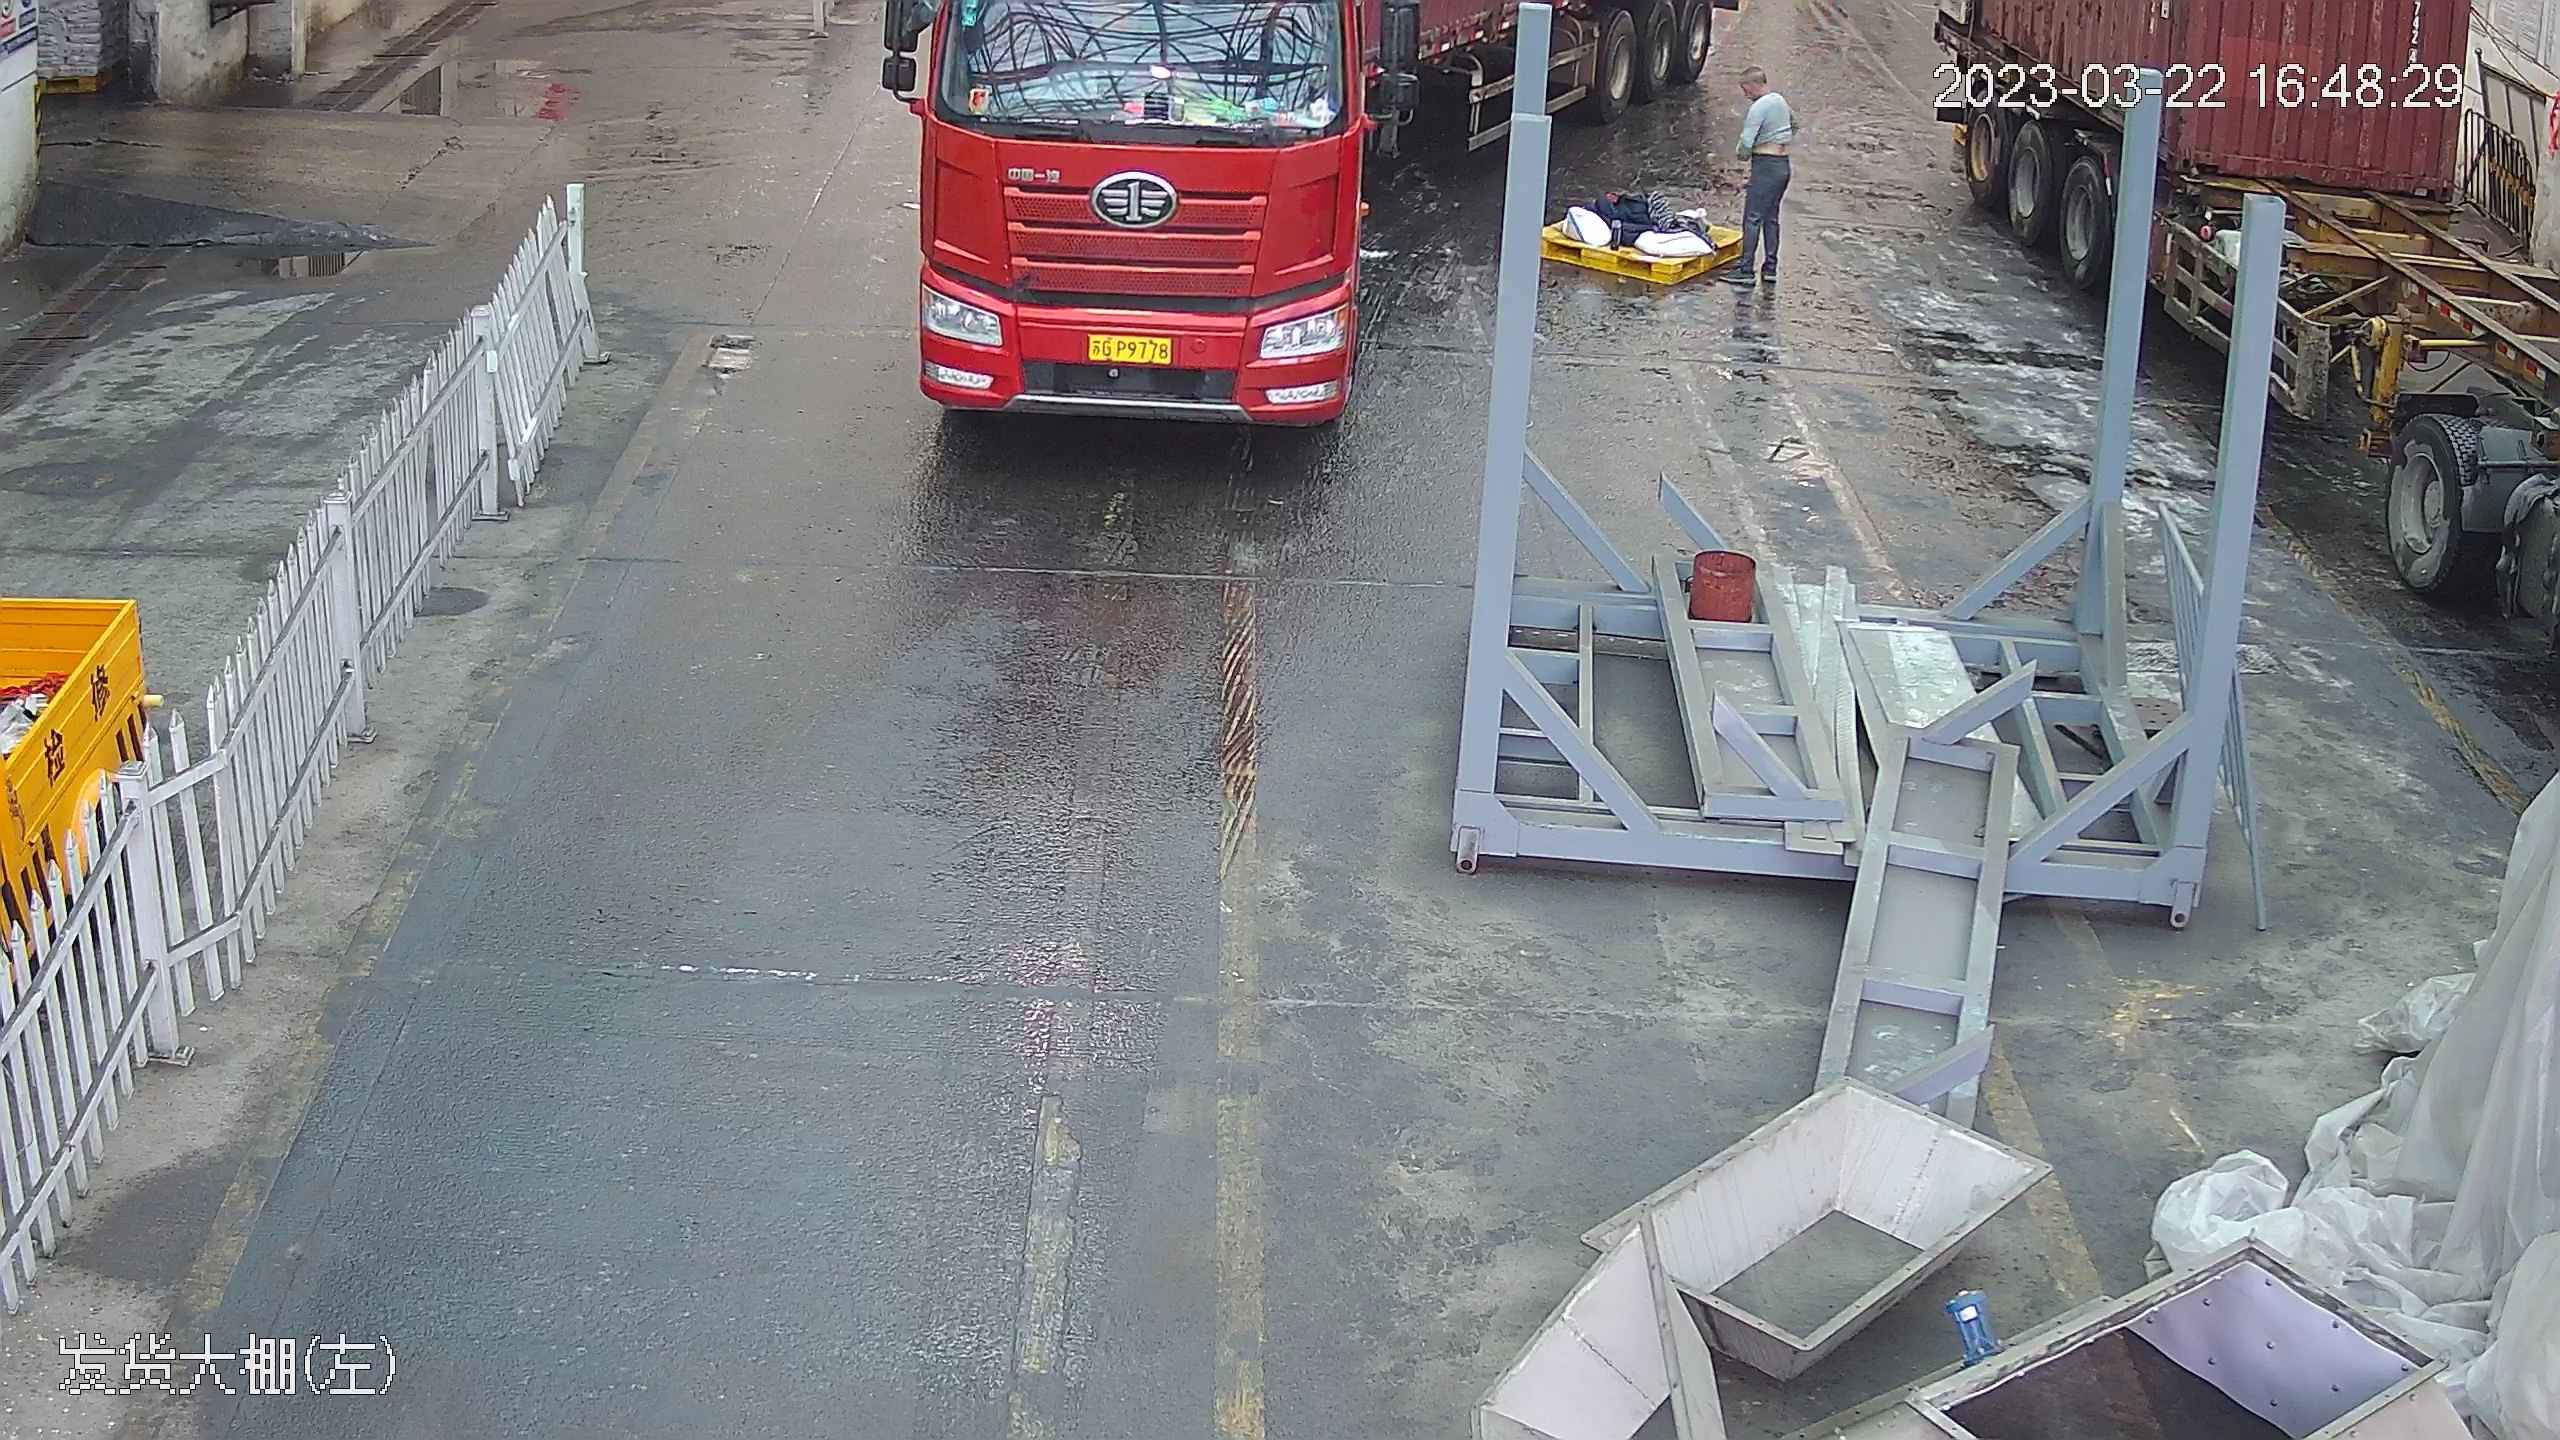head: (1739, 65, 1794, 132)
people: (1712, 61, 1798, 289)
truck: (1924, 8, 2560, 602), (894, 1, 1388, 426)
